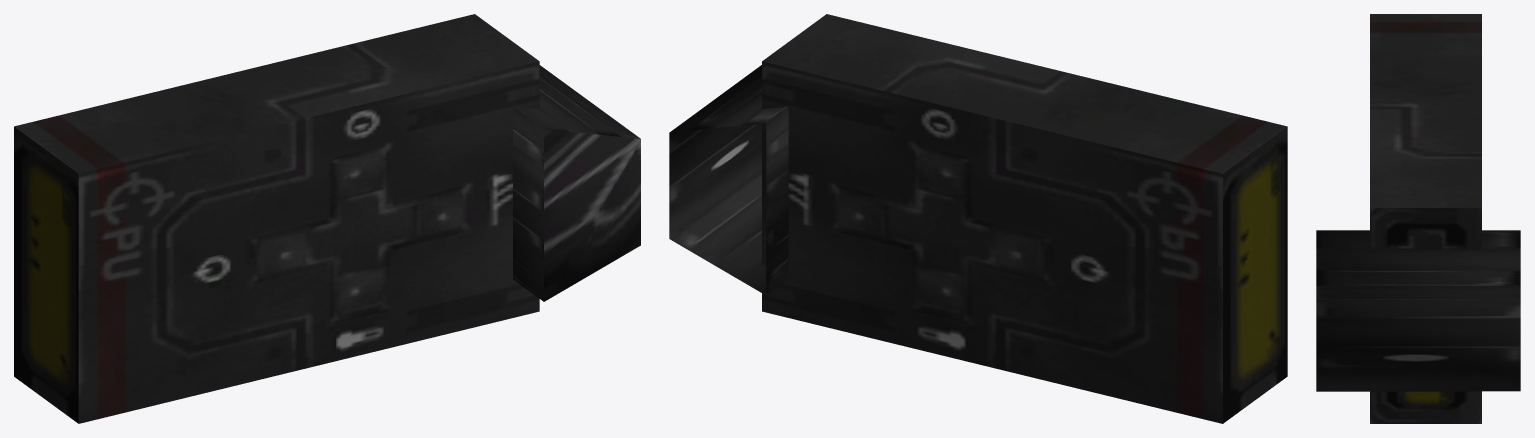
Rendered from t6_attach_bcpu_world_LOD2.obj.
3 renders of one model, left to right at view 1: azimuth 30°, elevation 25°; view 2: azimuth 150°, elevation 25°; view 3: azimuth 270°, elevation 25°, orthographic. The views are drawn at different scales.
Parts seen in each view (by area): view 1: mtl_t6_attach_bcpu; view 2: mtl_t6_attach_bcpu; view 3: mtl_t6_attach_bcpu.
Boxes of the visible parts, <box> form: mtl_t6_attach_bcpu: <box>14,14,640,423</box>; mtl_t6_attach_bcpu: <box>669,14,1287,423</box>; mtl_t6_attach_bcpu: <box>1316,14,1520,423</box>.
Size of the model in its own units: 9.04 by 4.07 by 3.49.
